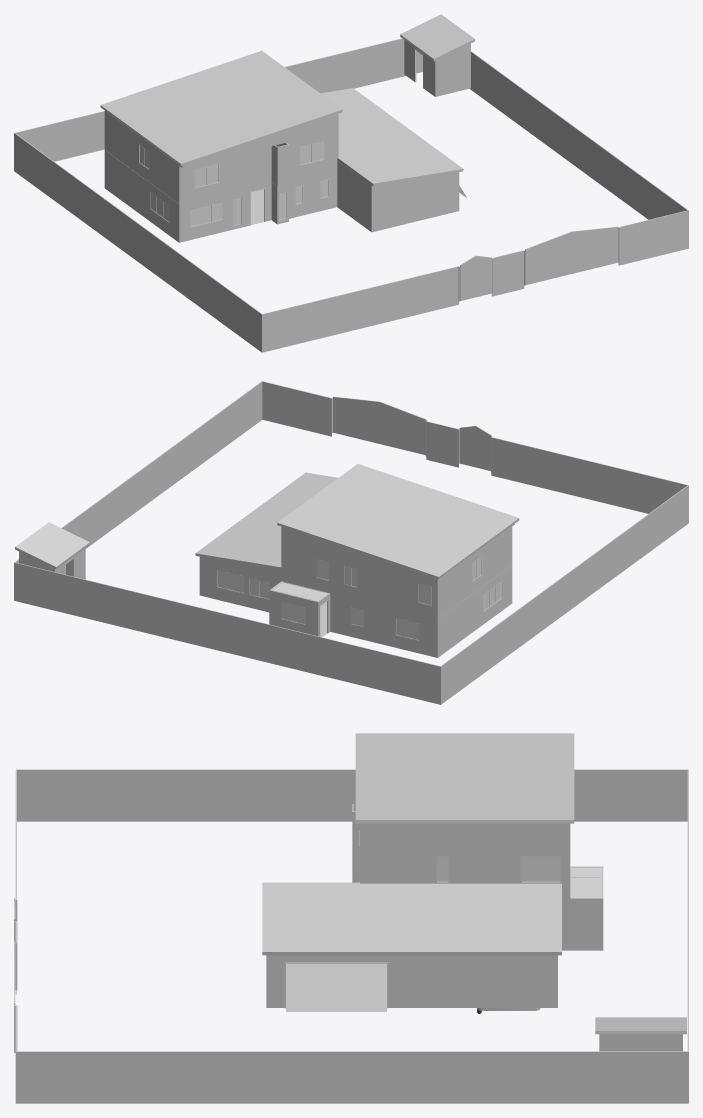
Rendered from House.FBX.
The picture shows the model from 3 angles, top to bottom: view 1: azimuth 30°, elevation 25°; view 2: azimuth 150°, elevation 25°; view 3: azimuth 270°, elevation 25°; orthographic projection. The views are drawn at different scales.
Parts seen in each view (by area): view 1: Fence, Box007, Floor 1 wall, Wall002, Box008, Car Gate, Wall003, Box009, Main gate, Glass; view 2: Fence, Box007, Floor 1 wall, Wall002, Box008, Car Gate, Box009, Main gate, Wall003, Glass, Box006; view 3: Fence, Box007, Box008, Floor 1 wall, Wall002, Garage door, Glass (×2), Box009, Wall003, Box006.
Boxes of the visible parts, bbox=[...] form: Fence: bbox=[14, 38, 688, 352]; Box007: bbox=[100, 51, 342, 166]; Floor 1 wall: bbox=[104, 150, 459, 242]; Wall002: bbox=[104, 111, 338, 204]; Box008: bbox=[320, 88, 463, 193]; Car Gate: bbox=[525, 226, 618, 285]; Wall003: bbox=[404, 40, 470, 96]; Box009: bbox=[400, 14, 474, 61]; Main gate: bbox=[460, 255, 491, 300]; Glass: bbox=[190, 203, 221, 226]; Fence: bbox=[14, 381, 688, 704]; Box007: bbox=[277, 464, 519, 579]; Floor 1 wall: bbox=[199, 557, 512, 657]; Wall002: bbox=[281, 526, 512, 619]; Box008: bbox=[195, 472, 337, 576]; Car Gate: bbox=[333, 396, 426, 454]; Box009: bbox=[15, 522, 89, 569]; Main gate: bbox=[459, 425, 491, 470]; Wall003: bbox=[19, 548, 85, 579]; Glass: bbox=[273, 582, 327, 600]; Box006: bbox=[281, 524, 514, 580]; Fence: bbox=[15, 769, 688, 1103]; Box007: bbox=[355, 733, 574, 843]; Box008: bbox=[262, 882, 561, 955]; Floor 1 wall: bbox=[266, 864, 603, 1007]; Wall002: bbox=[352, 804, 570, 898]; Garage door: bbox=[286, 963, 386, 1011]; Glass (×2): bbox=[522, 857, 600, 897]; Box009: bbox=[595, 1017, 686, 1034]; Wall003: bbox=[599, 1034, 682, 1051]; Box006: bbox=[360, 844, 570, 846].
Bounding box in the file's own units: 2438 × 603 × 2460.
